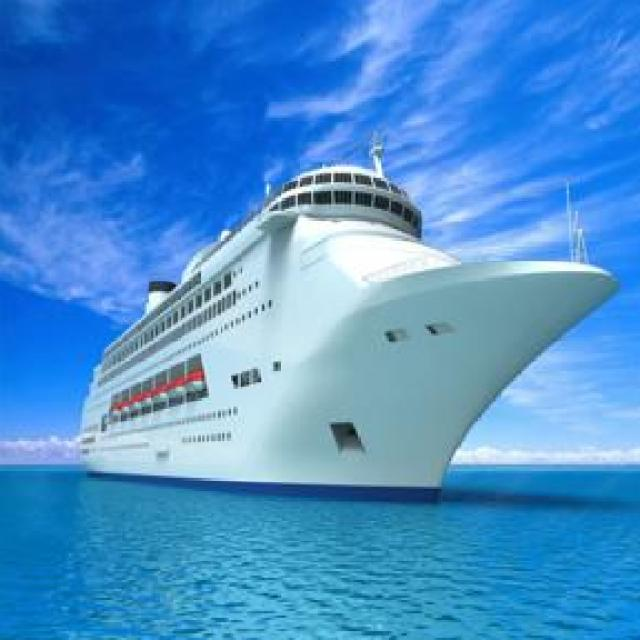passenger ship: (52, 162, 621, 523)
